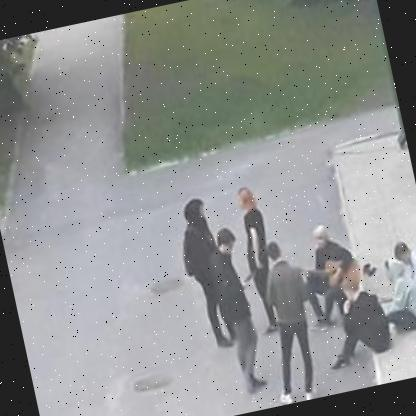person: (247, 230, 332, 405), (197, 222, 277, 396), (169, 186, 246, 356), (324, 265, 398, 367), (371, 246, 416, 338)
